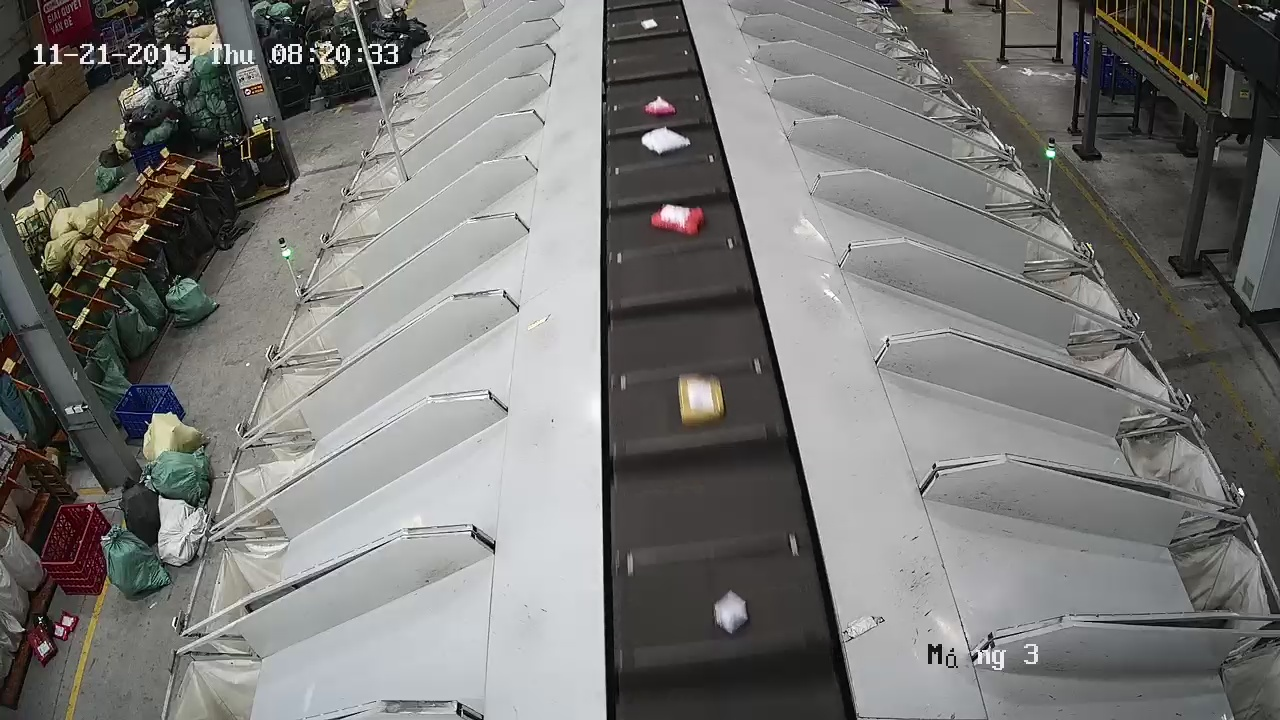parcel: (675, 370, 727, 432)
